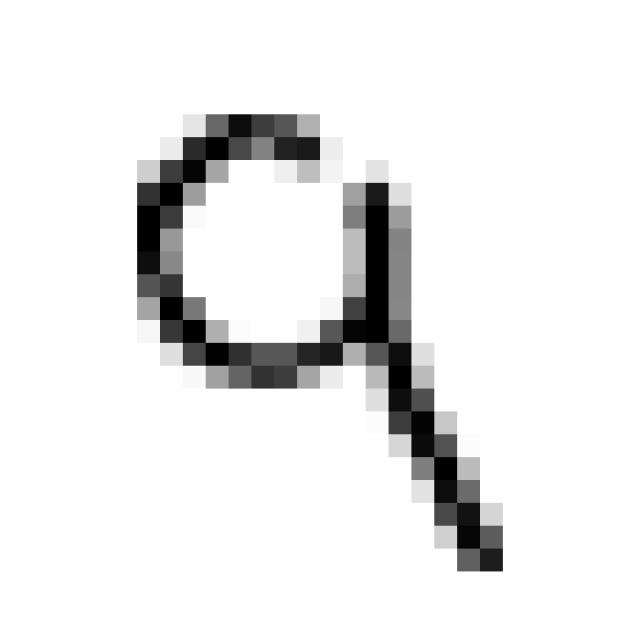9 -nine-: (112, 92, 523, 591)
